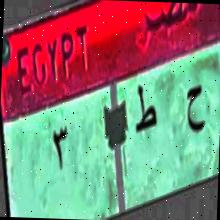3: (48, 116, 70, 188)
7aa: (182, 76, 206, 141)
Taa: (132, 71, 160, 150)
